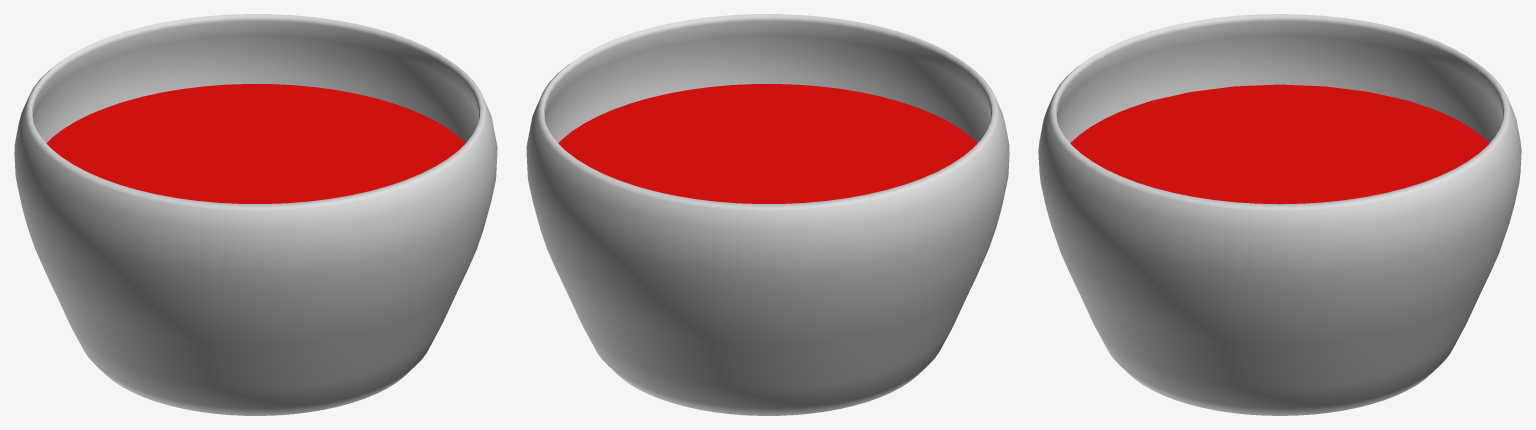
Rendered from tomato_soucefbx.fbx.
The picture shows the model from 3 angles, left to right: view 1: azimuth 30°, elevation 25°; view 2: azimuth 150°, elevation 25°; view 3: azimuth 270°, elevation 25°; orthographic projection.
Parts seen in each view (by area): view 1: Sphere, tomato_souce; view 2: Sphere, tomato_souce; view 3: Sphere, tomato_souce.
Part boxes in pixels (<box>): Sphere: <box>14,14,497,415</box>; tomato_souce: <box>46,84,465,203</box>; Sphere: <box>526,14,1009,415</box>; tomato_souce: <box>558,84,977,203</box>; Sphere: <box>1038,14,1521,415</box>; tomato_souce: <box>1070,84,1489,204</box>.
Size of the model in its own units: 39.86 by 21.88 by 39.86.
